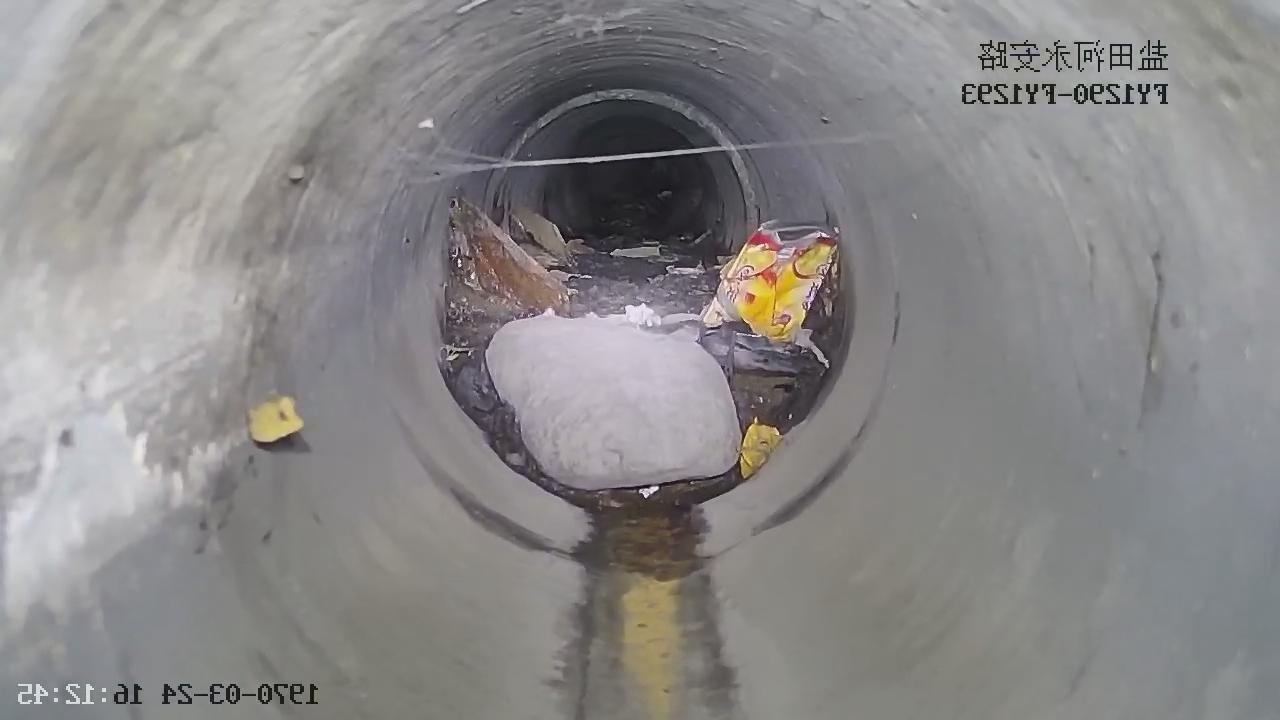CKTJ: (481, 87, 762, 250)
ZAW: (441, 202, 846, 505)
